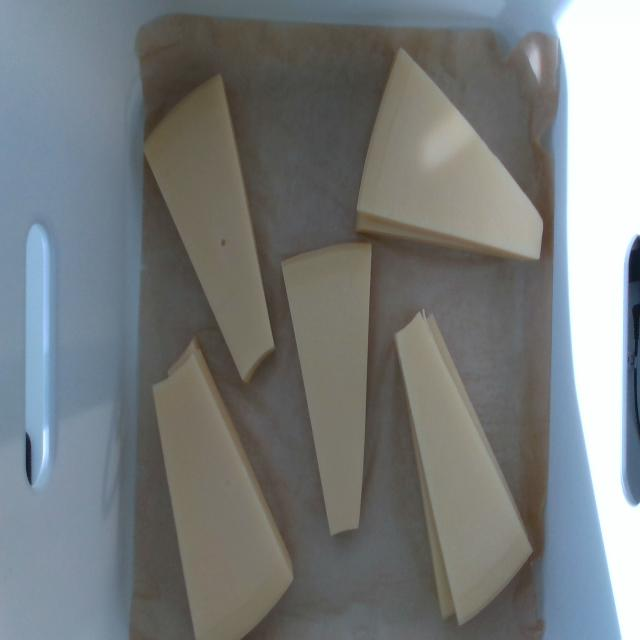cheese: (396, 314, 531, 621), (153, 353, 294, 639), (146, 76, 274, 378), (357, 51, 542, 258), (282, 244, 370, 532)
